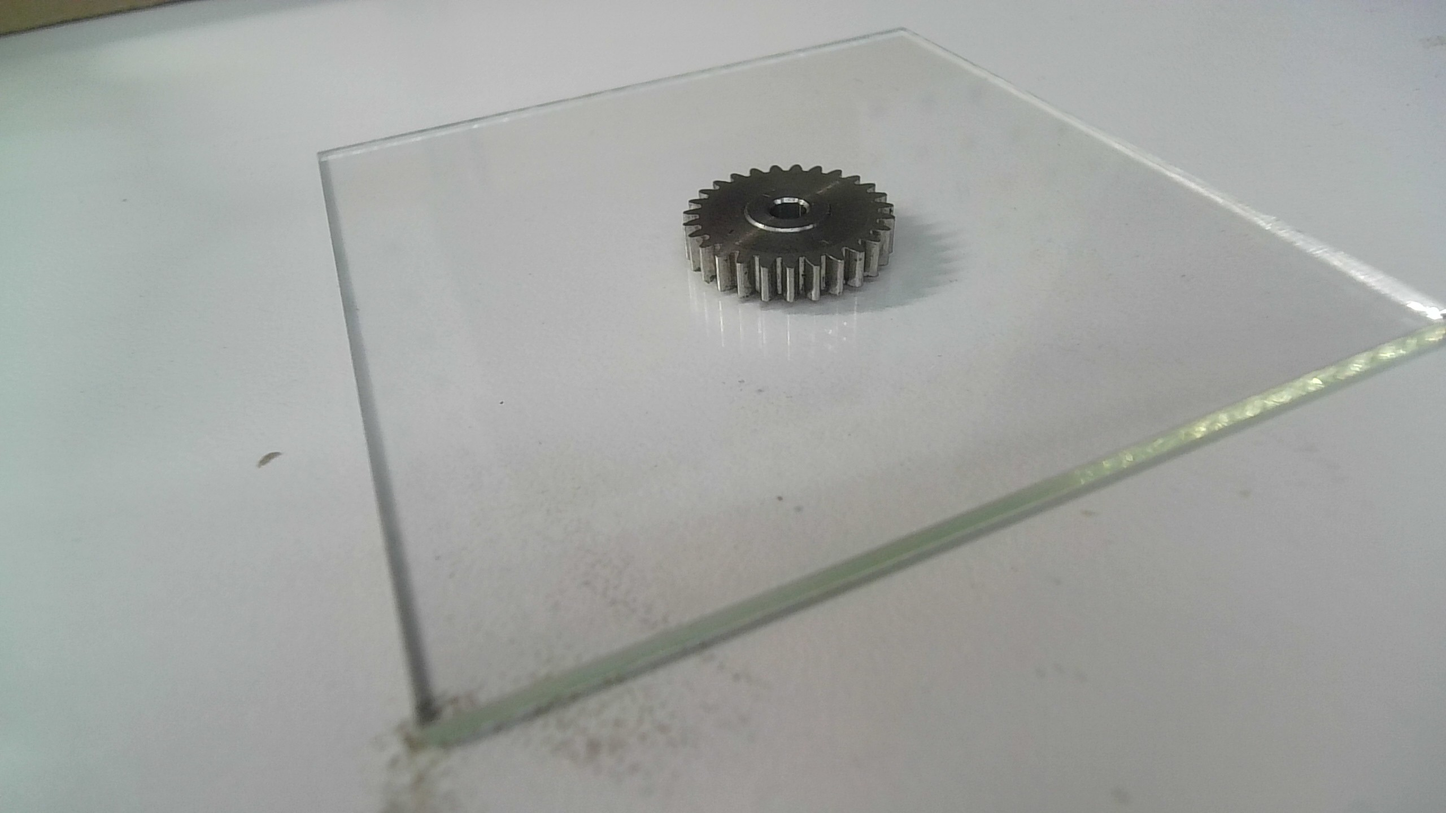gear: (678, 160, 900, 307)
